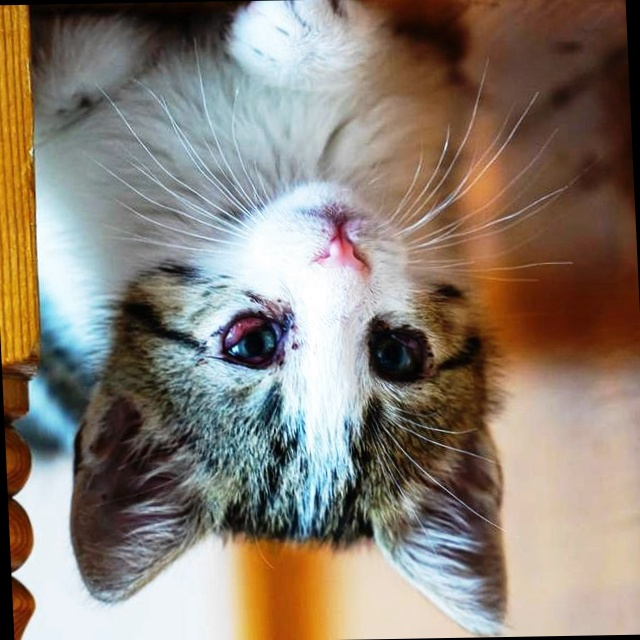eye_infection: (212, 309, 297, 372), (369, 327, 424, 391)
